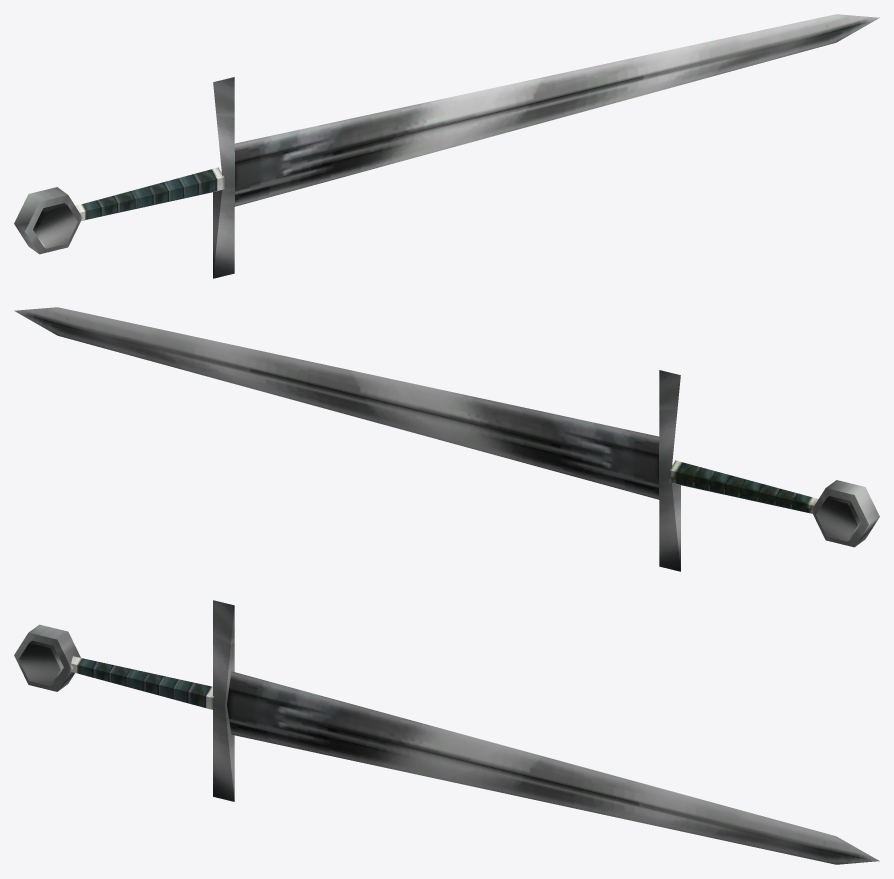
The picture shows the model from 3 angles, top to bottom: view 1: azimuth 30°, elevation 25°; view 2: azimuth 150°, elevation 25°; view 3: azimuth 330°, elevation 25°; orthographic projection.
Parts seen in each view (by area): view 1: it10648; view 2: it10648; view 3: it10648.
Boxes of the visible parts, x1,y1,x2,y2 form: it10648: (14, 14, 879, 278); it10648: (14, 307, 879, 571); it10648: (14, 600, 879, 864).
Size of the model in its own units: 4.06 by 0.886 by 0.1406.
Materials: 3 (2 with a texture image).
